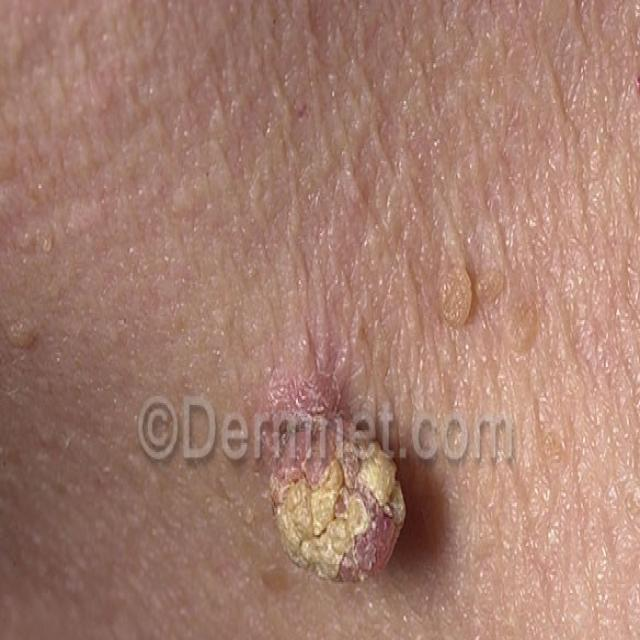Warts: (271, 388, 412, 591)
